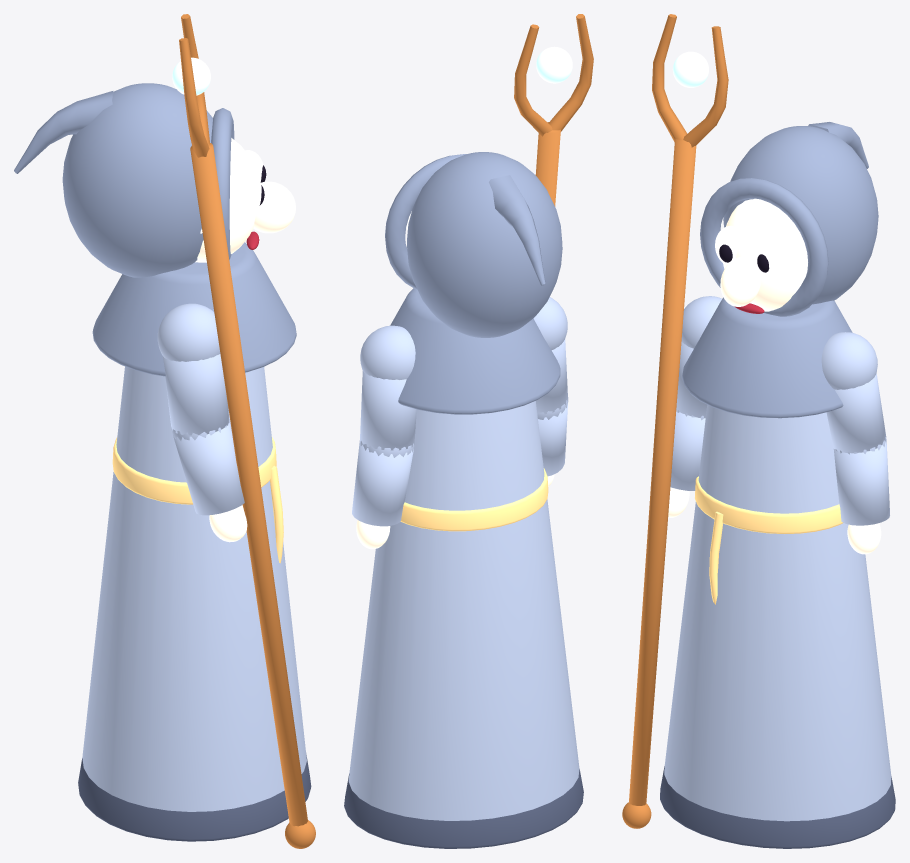
The model's file is bobbin.glb.
3 renders of one model, left to right at view 1: azimuth 30°, elevation 25°; view 2: azimuth 150°, elevation 25°; view 3: azimuth 270°, elevation 25°, orthographic. The views are drawn at different scales.
Visible parts, largest first — view 1: Bo_Mantel.001, Bo_Kapuze.001, Bo_Schaft.001, Bo_Kragen.001, Bo_Saum.001, Bo_OAR.001, Bo_UAR.001, Bo_ShKR.001, Bo_Spitze.001, Bo_Strick.001, Bo_Kopf.001, Bo_Rand.001 (+8 smaller); view 2: Bo_Mantel.001, Bo_Kapuze.001, Bo_Kragen.001, Bo_Saum.001, Bo_UAL.001, Bo_OAL.001, Bo_Strick.001, Bo_Rand.001, Bo_ShKL.001, Bo_Spitze.001, Bo_GabelB.001, Bo_UAR.001 (+6 smaller); view 3: Bo_Mantel.001, Bo_Kragen.001, Bo_Schaft.001, Bo_Kapuze.001, Bo_Saum.001, Bo_Rand.001, Bo_Kopf.001, Bo_UAL.001, Bo_OAL.001, Bo_Strick.001, Bo_ShKL.001, Bo_UAR.001 (+12 smaller).
Boxes of the visible parts, bbox=[...] form: Bo_Mantel.001: bbox=[82, 366, 306, 811]; Bo_Kapuze.001: bbox=[62, 83, 212, 277]; Bo_Schaft.001: bbox=[190, 143, 307, 826]; Bo_Kragen.001: bbox=[92, 242, 296, 376]; Bo_Saum.001: bbox=[78, 755, 311, 841]; Bo_OAR.001: bbox=[163, 354, 229, 435]; Bo_UAR.001: bbox=[173, 423, 244, 515]; Bo_ShKR.001: bbox=[157, 303, 220, 361]; Bo_Spitze.001: bbox=[14, 91, 113, 173]; Bo_Strick.001: bbox=[112, 436, 276, 504]; Bo_Kopf.001: bbox=[195, 138, 258, 262]; Bo_Rand.001: bbox=[211, 108, 234, 259]; Bo_Mantel.001: bbox=[348, 401, 579, 820]; Bo_Kapuze.001: bbox=[407, 152, 562, 337]; Bo_Kragen.001: bbox=[390, 288, 560, 414]; Bo_Saum.001: bbox=[344, 769, 583, 848]; Bo_UAL.001: bbox=[352, 440, 413, 526]; Bo_OAL.001: bbox=[360, 371, 416, 450]; Bo_Strick.001: bbox=[400, 468, 548, 531]; Bo_Rand.001: bbox=[385, 154, 466, 289]; Bo_ShKL.001: bbox=[360, 325, 415, 379]; Bo_Spitze.001: bbox=[489, 175, 545, 285]; Bo_GabelB.001: bbox=[548, 14, 593, 131]; Bo_UAR.001: bbox=[538, 403, 567, 476]; Bo_Mantel.001: bbox=[664, 405, 891, 821]; Bo_Kragen.001: bbox=[682, 297, 852, 418]; Bo_Schaft.001: bbox=[629, 138, 696, 805]; Bo_Kapuze.001: bbox=[723, 126, 878, 304]; Bo_Saum.001: bbox=[660, 766, 895, 848]; Bo_Rand.001: bbox=[700, 178, 828, 316]; Bo_Kopf.001: bbox=[723, 198, 807, 311]; Bo_UAL.001: bbox=[833, 442, 889, 525]; Bo_OAL.001: bbox=[826, 373, 886, 453]; Bo_Strick.001: bbox=[695, 476, 843, 533]; Bo_ShKL.001: bbox=[821, 332, 877, 389]; Bo_UAR.001: bbox=[670, 410, 705, 490].
Size of the model in its own units: 0.7056 by 2.33 by 0.7499.
